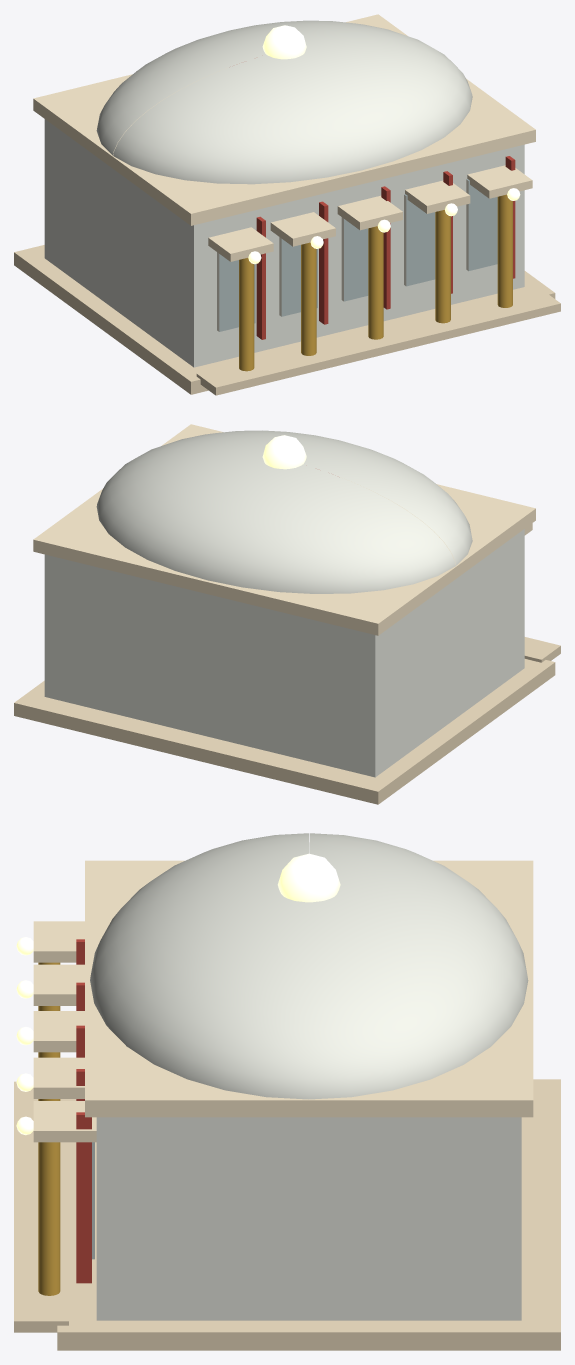
File: marvel.glb
3 renders of one model, top to bottom at view 1: azimuth 30°, elevation 25°; view 2: azimuth 150°, elevation 25°; view 3: azimuth 270°, elevation 25°, orthographic. The views are drawn at different scales.
Bounding box in the file's own units: 3.8 × 2.58 × 3.48.
